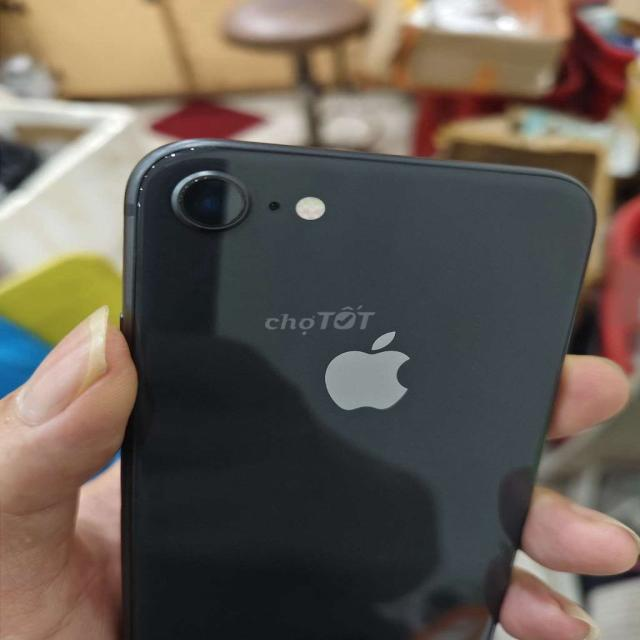scratch: (135, 142, 197, 214)
